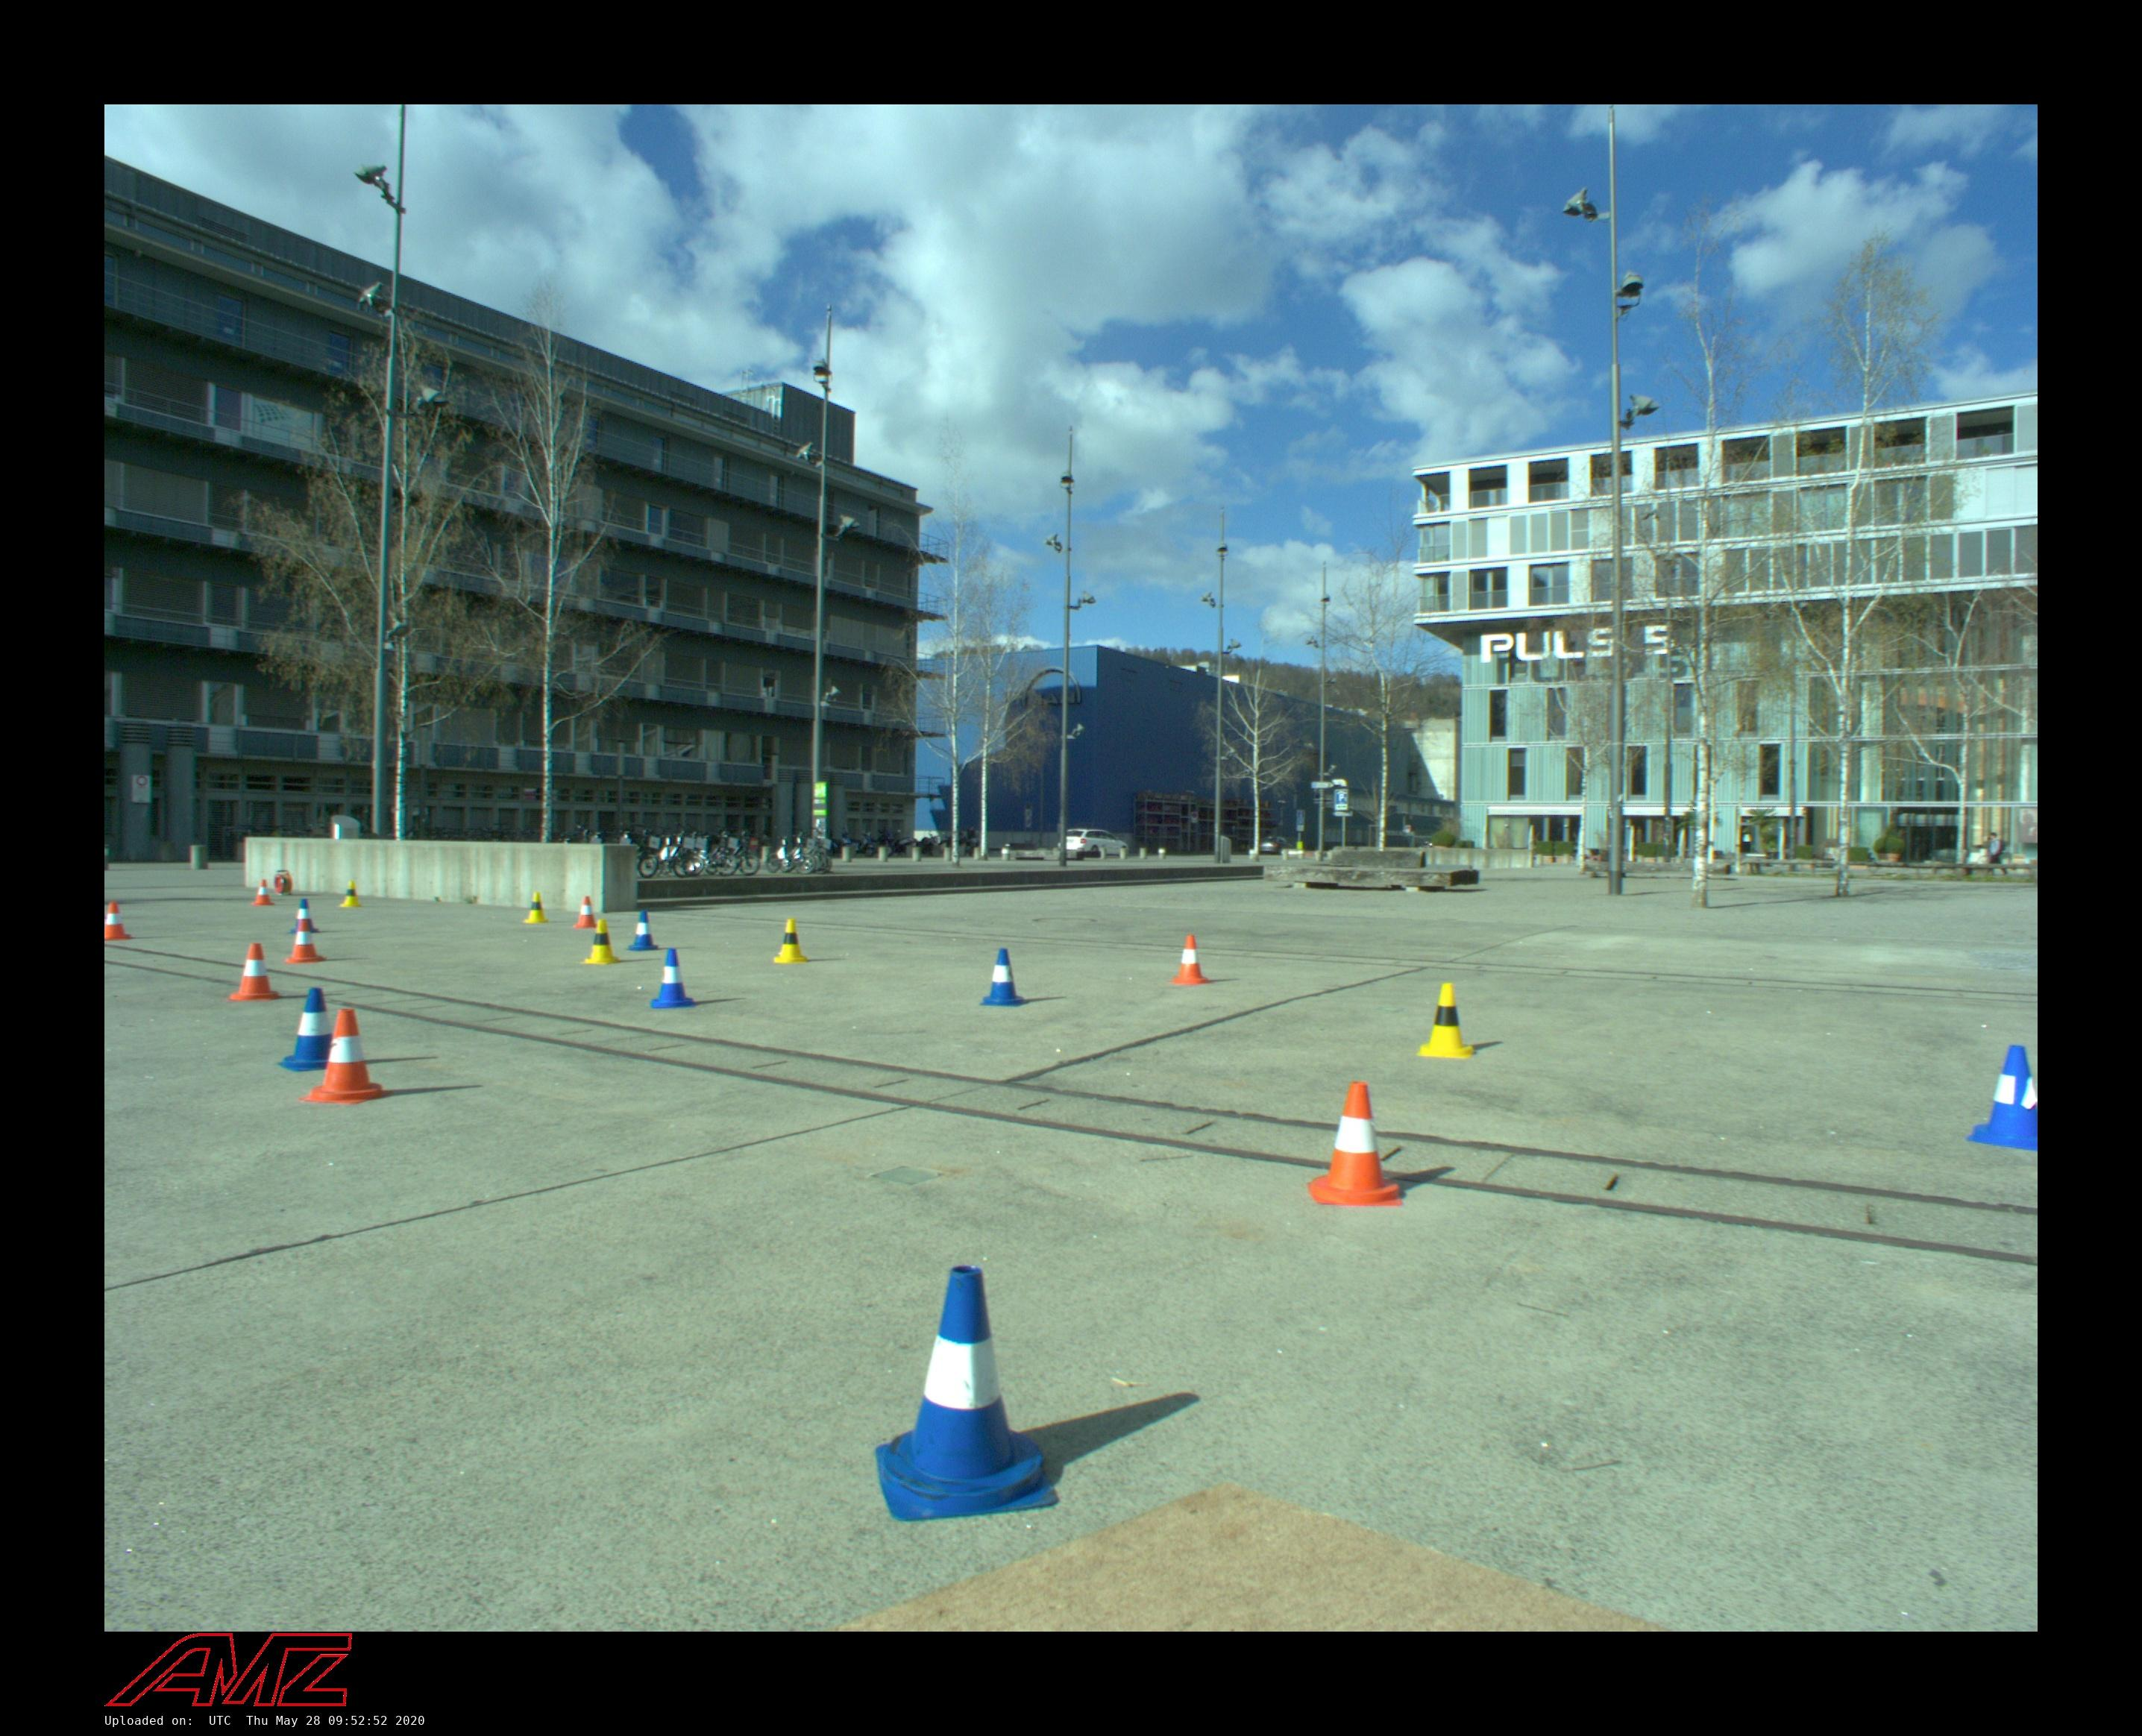blue_cone: (873, 1267, 1056, 1522), (1967, 1043, 2037, 1153), (276, 987, 351, 1072), (650, 948, 700, 1010), (980, 948, 1028, 1008), (625, 911, 661, 951), (289, 898, 321, 935)
orange_cone: (1304, 1081, 1403, 1206), (298, 1008, 392, 1105), (229, 942, 283, 1004), (1169, 935, 1214, 985), (283, 919, 326, 965), (572, 896, 604, 930), (105, 902, 131, 941), (252, 879, 275, 905)
yellow_cone: (1417, 981, 1476, 1059), (581, 919, 620, 965), (774, 918, 808, 964), (523, 891, 547, 925), (338, 882, 363, 909)
